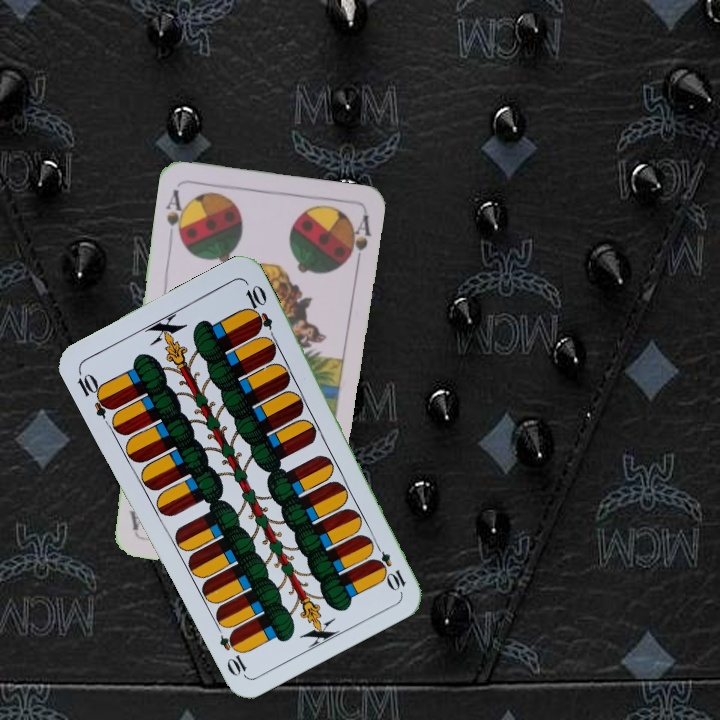E10: (73, 366, 117, 421), (368, 537, 409, 593)
SA: (162, 185, 190, 244)
